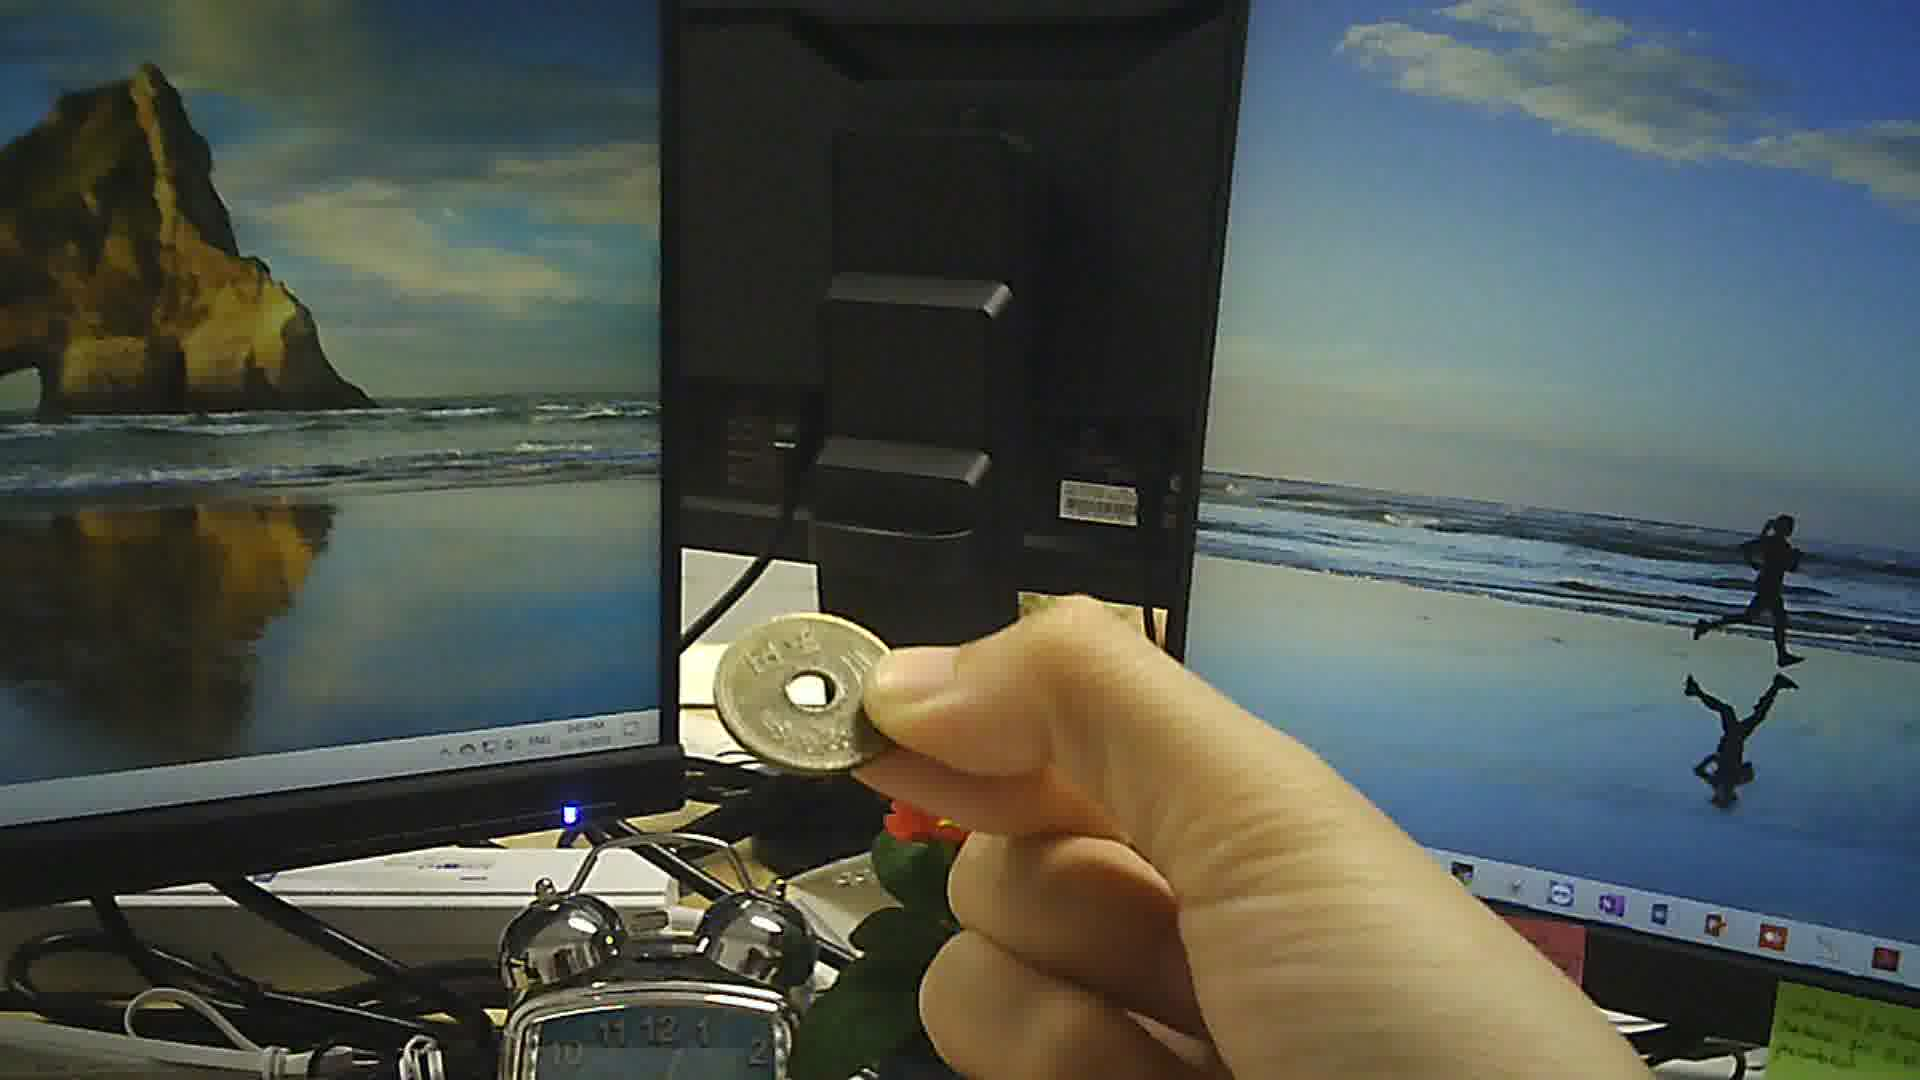5 Yen: (717, 620, 897, 770)
